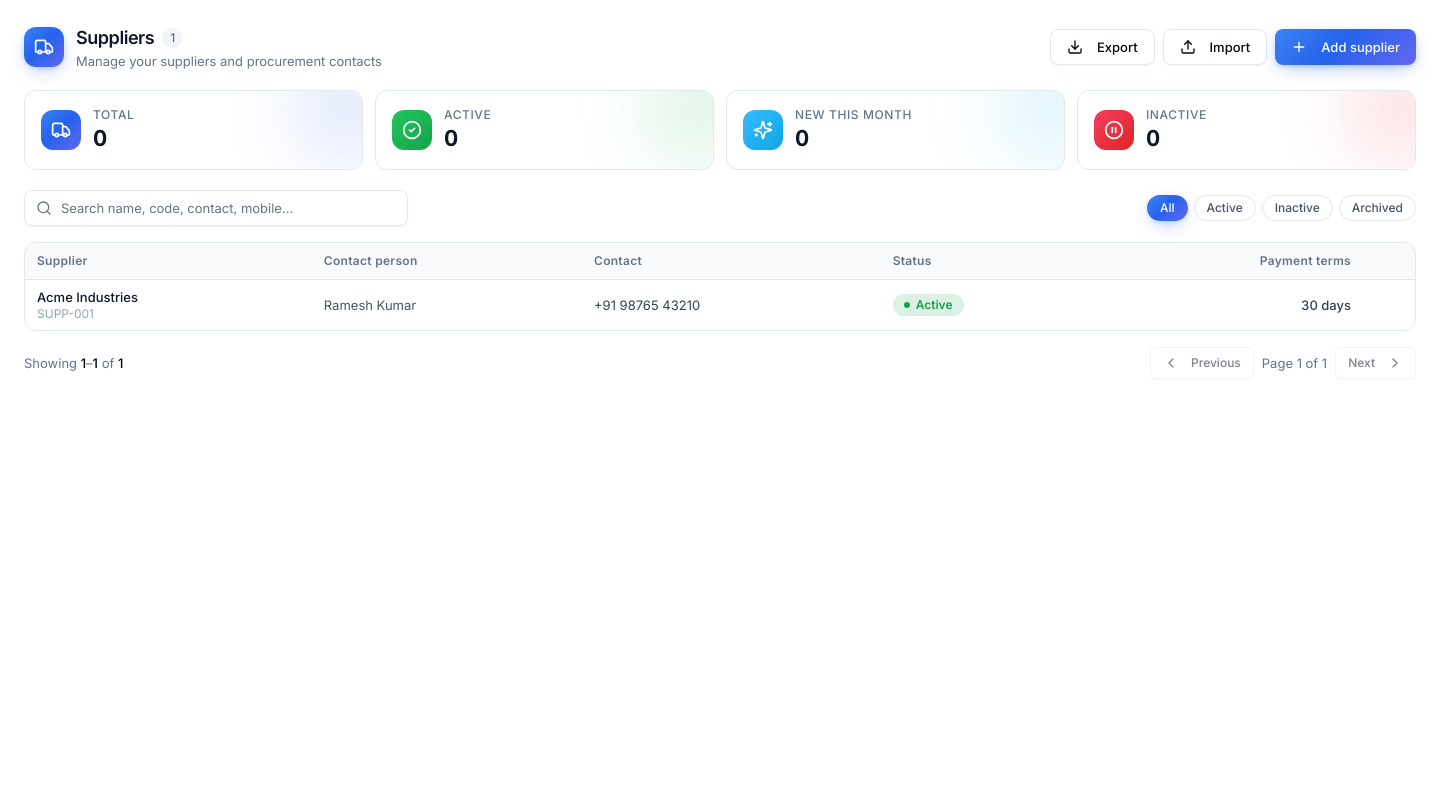
Scenario: SuppliersView › opens the import dialog when import is clicked
Check: the dialog "import suppliers" is not shown
Click the button "Import": (1215, 47) top-left (1163, 29), bottom-right (1267, 65)
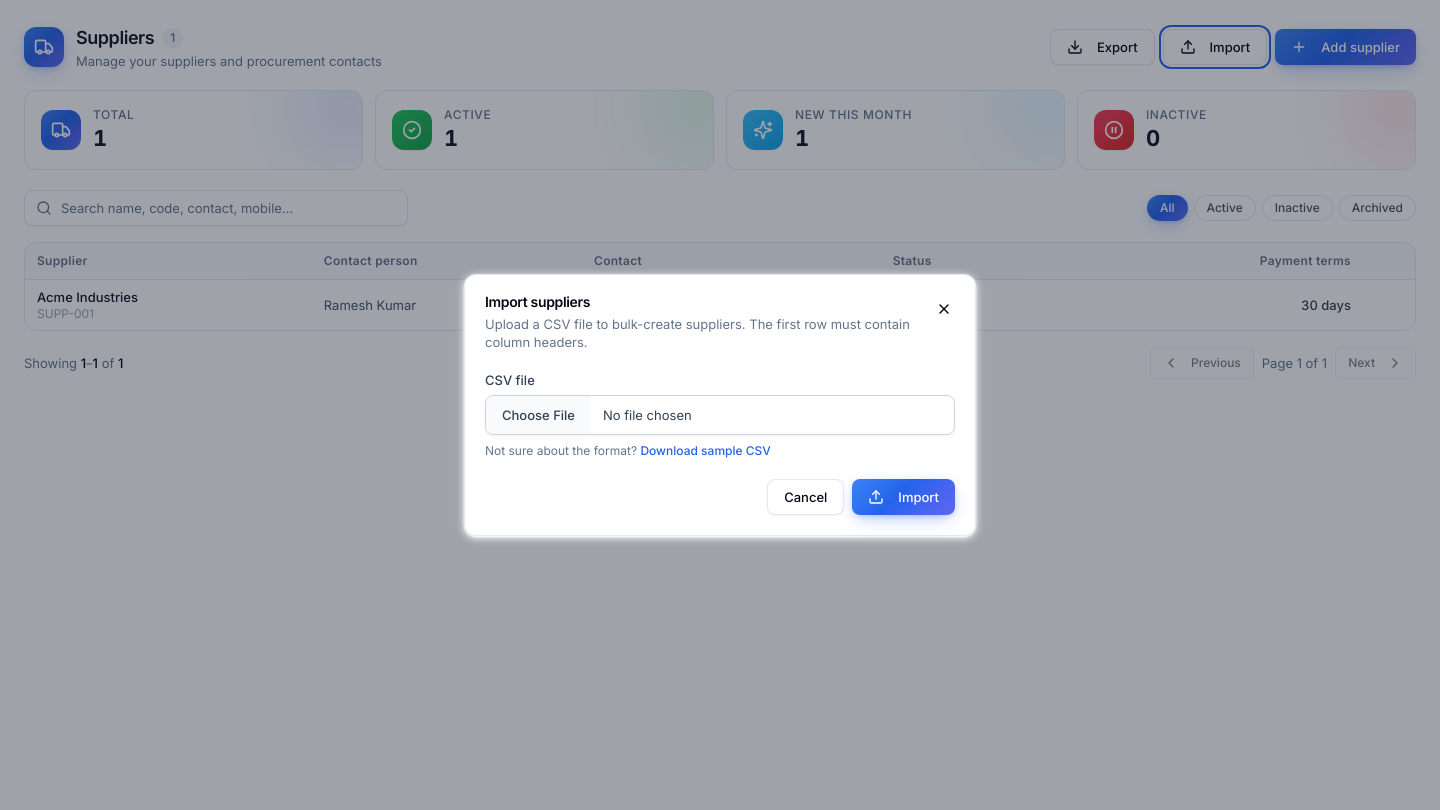
Check: the dialog "Import suppliers" is shown
